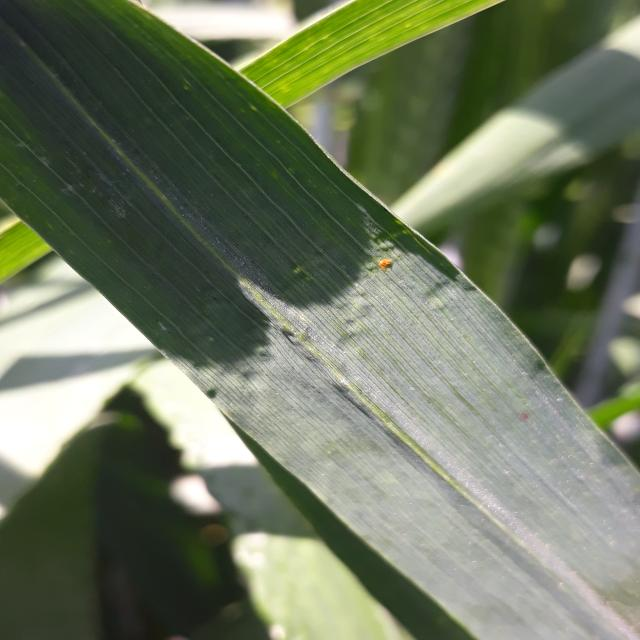orang_rust: (350, 220, 430, 302)
